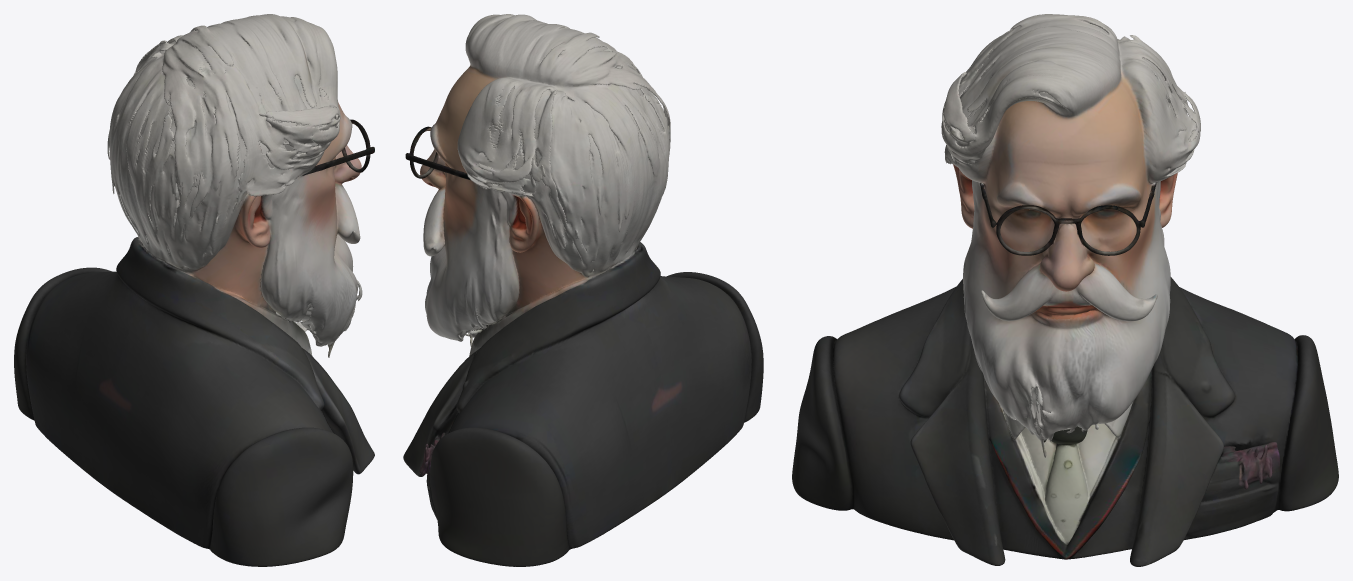
File: detailed_realistic_model_albusdumbledore_12.glb
3 views of the same model, side by side, from view 1: azimuth 30°, elevation 25°; view 2: azimuth 150°, elevation 25°; view 3: azimuth 270°, elevation 25° (orthographic). The views are drawn at different scales.
Visible parts, largest first — view 1: tripo_node_d6e5e366-31e6-49da-bac1-d7e689567c27; view 2: tripo_node_d6e5e366-31e6-49da-bac1-d7e689567c27; view 3: tripo_node_d6e5e366-31e6-49da-bac1-d7e689567c27.
Part boxes in pixels (x1=…): tripo_node_d6e5e366-31e6-49da-bac1-d7e689567c27: x1=14, y1=14, x2=374, y2=566; tripo_node_d6e5e366-31e6-49da-bac1-d7e689567c27: x1=403, y1=14, x2=763, y2=566; tripo_node_d6e5e366-31e6-49da-bac1-d7e689567c27: x1=792, y1=14, x2=1338, y2=566.
Size of the model in its own units: 0.5923 by 0.9695 by 1.
1 material, 1 textured.
